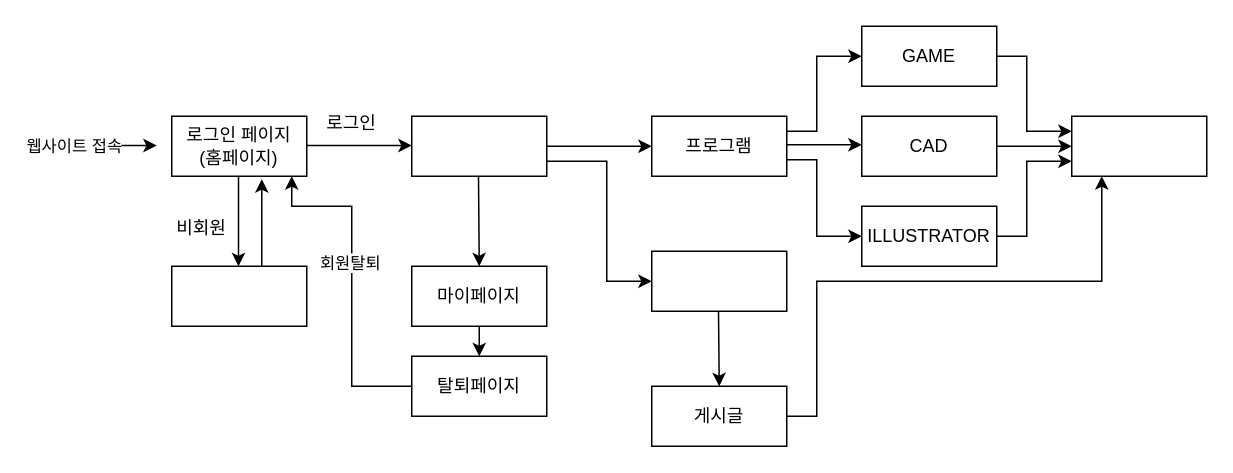
This 1233x473 diagram has some shape labels left out. The shapes that lost their labels are listed below. From the top down, each one's centre as x and y in pixels, then its label:
At point (478, 145): "메인 페이지".
At point (1138, 145): "사양 비교 페이지".
At point (238, 295): "회원가입 창".
At point (718, 280): "정보 공유 게시판".
